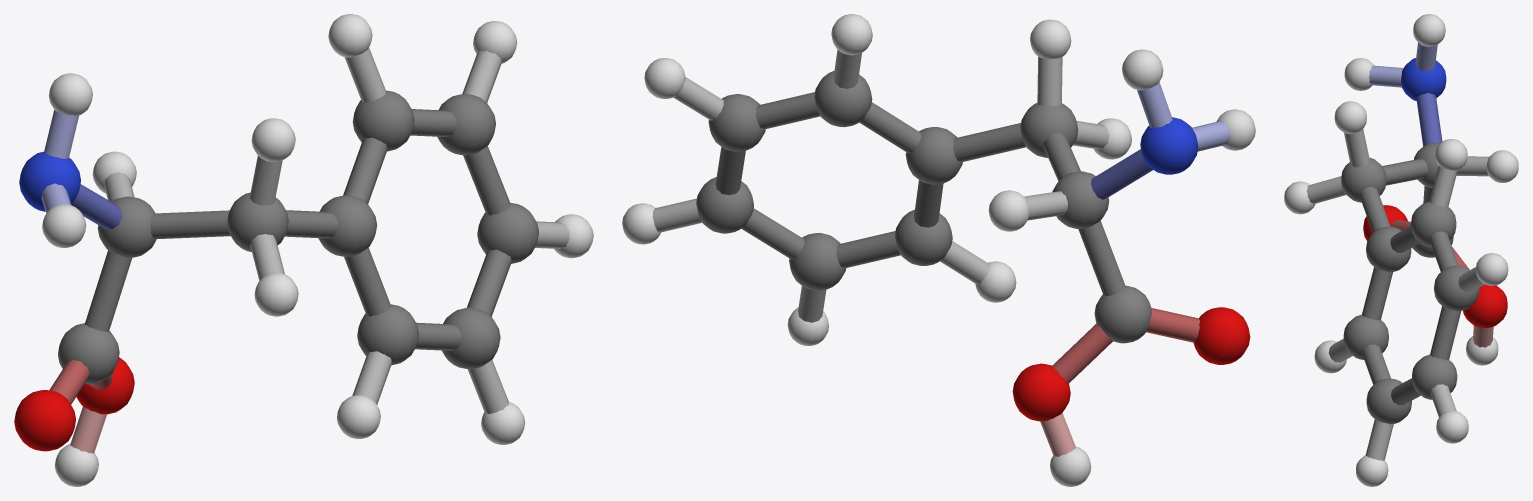
Rendered from phenylalanine.glb.
3 views of the same model, side by side, from view 1: azimuth 30°, elevation 25°; view 2: azimuth 150°, elevation 25°; view 3: azimuth 270°, elevation 25° (orthographic). The views are drawn at different scales.
Size of the model in its own units: 0.18 by 0.1243 by 0.0792.
